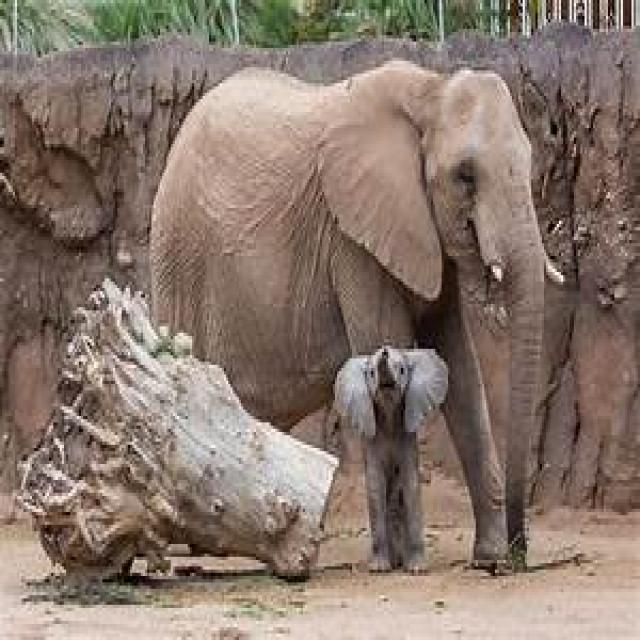elephant: (149, 61, 553, 573)
